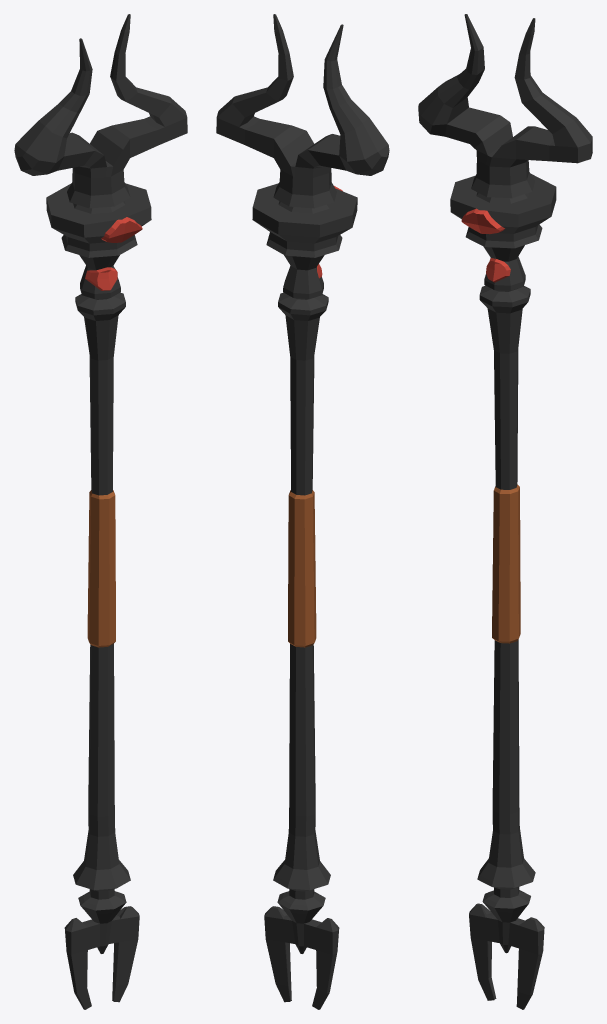
Rendered from VileStaff.fbx.
3 views of the same model, side by side, from view 1: azimuth 30°, elevation 25°; view 2: azimuth 150°, elevation 25°; view 3: azimuth 330°, elevation 25° (orthographic).
Parts seen in each view (by area): view 1: Cylinder; view 2: Cylinder; view 3: Cylinder.
Part boxes in pixels (box(x1,y1,x2,y2)): Cylinder: box(14, 14, 187, 1009); Cylinder: box(216, 14, 389, 1009); Cylinder: box(418, 14, 592, 1009).
Size of the model in its own units: 183 by 1021 by 101.
